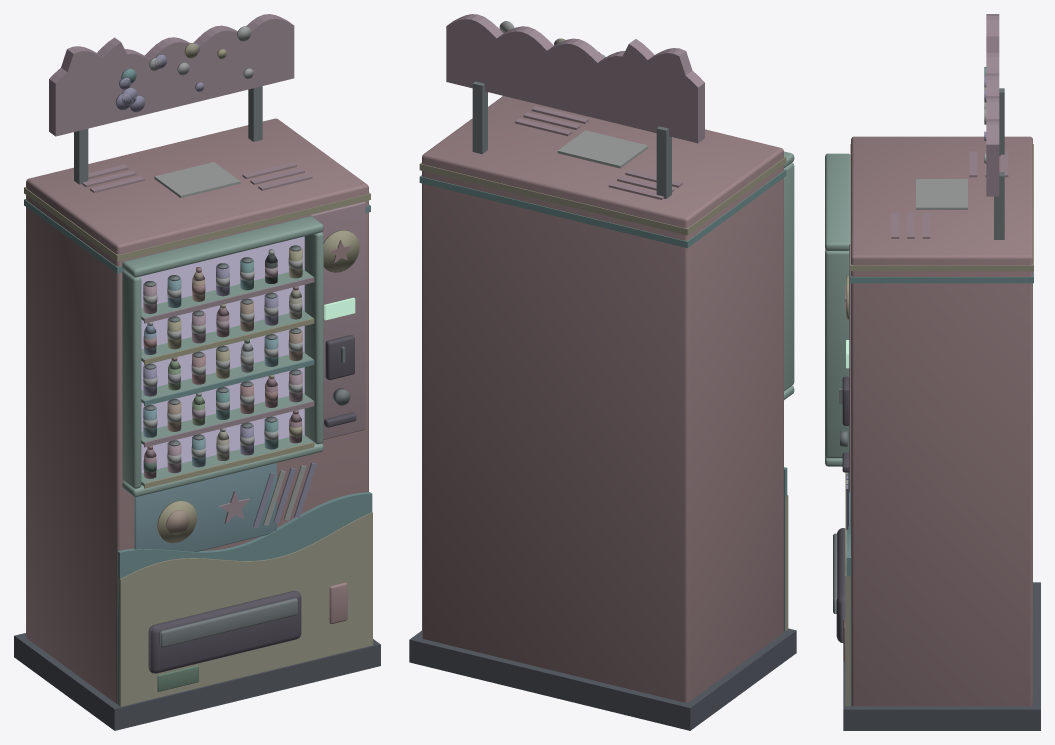
Rendered from expendedora_soda.glb.
3 views of the same model, side by side, from view 1: azimuth 30°, elevation 25°; view 2: azimuth 150°, elevation 25°; view 3: azimuth 270°, elevation 25° (orthographic). The views are drawn at different scales.
Parts seen in each view (by area): view 1: Soda_Rojo, Soda_OlaAmarilla, Soda_Blanco, Soda_RosaSakura, Soda_FondoVitrina, Soda_BaseCiruela, Soda_OlaTurquesa, Soda_RosaFuerte, Soda_Cian, Soda_Amarillo, Soda_Oscuro, Soda_BlancoPuro (+5 smaller); view 2: Soda_Rojo, Soda_RosaSakura, Soda_BaseCiruela, Soda_OlaTurquesa, Soda_Amarillo, Soda_Blanco, Soda_Gris, Soda_BlancoPuro, Soda_RosaFuerte; view 3: Soda_Rojo, Soda_Blanco, Soda_BaseCiruela, Soda_RosaSakura, Soda_OlaTurquesa, Soda_BlancoPuro, Soda_Amarillo, Soda_RosaFuerte, Soda_Gris, Soda_Oscuro, Soda_OlaAmarilla.
Boxes of the visible parts, x1,y1,x2,y2 form: Soda_Rojo: (26, 118, 368, 703); Soda_OlaAmarilla: (118, 512, 372, 706); Soda_Blanco: (122, 216, 323, 496); Soda_RosaSakura: (49, 14, 314, 523); Soda_FondoVitrina: (140, 236, 304, 472); Soda_BaseCiruela: (14, 633, 380, 730); Soda_OlaTurquesa: (24, 68, 372, 705); Soda_RosaFuerte: (82, 162, 365, 439); Soda_Cian: (134, 277, 278, 551); Soda_Amarillo: (24, 43, 370, 543); Soda_Oscuro: (148, 335, 356, 673); Soda_BlancoPuro: (143, 26, 306, 525); Soda_Rojo: (422, 96, 783, 702); Soda_RosaSakura: (446, 14, 704, 143); Soda_BaseCiruela: (409, 628, 796, 730); Soda_OlaTurquesa: (419, 169, 787, 631); Soda_Amarillo: (419, 38, 786, 235); Soda_Blanco: (784, 151, 794, 399); Soda_Gris: (472, 81, 671, 198); Soda_BlancoPuro: (499, 21, 648, 168); Soda_RosaFuerte: (515, 106, 682, 199); Soda_Rojo: (843, 136, 1032, 706); Soda_Blanco: (825, 153, 850, 466); Soda_BaseCiruela: (843, 582, 1040, 730); Soda_RosaSakura: (825, 14, 999, 490); Soda_OlaTurquesa: (846, 67, 1033, 705); Soda_BlancoPuro: (846, 75, 986, 484); Soda_Amarillo: (846, 87, 1033, 319); Soda_RosaFuerte: (849, 151, 1008, 492); Soda_Gris: (833, 88, 1004, 613); Soda_Oscuro: (836, 376, 849, 642); Soda_OlaAmarilla: (845, 472, 850, 706).
Bounding box in the file's own units: 1.16 × 2.57 × 0.83.
